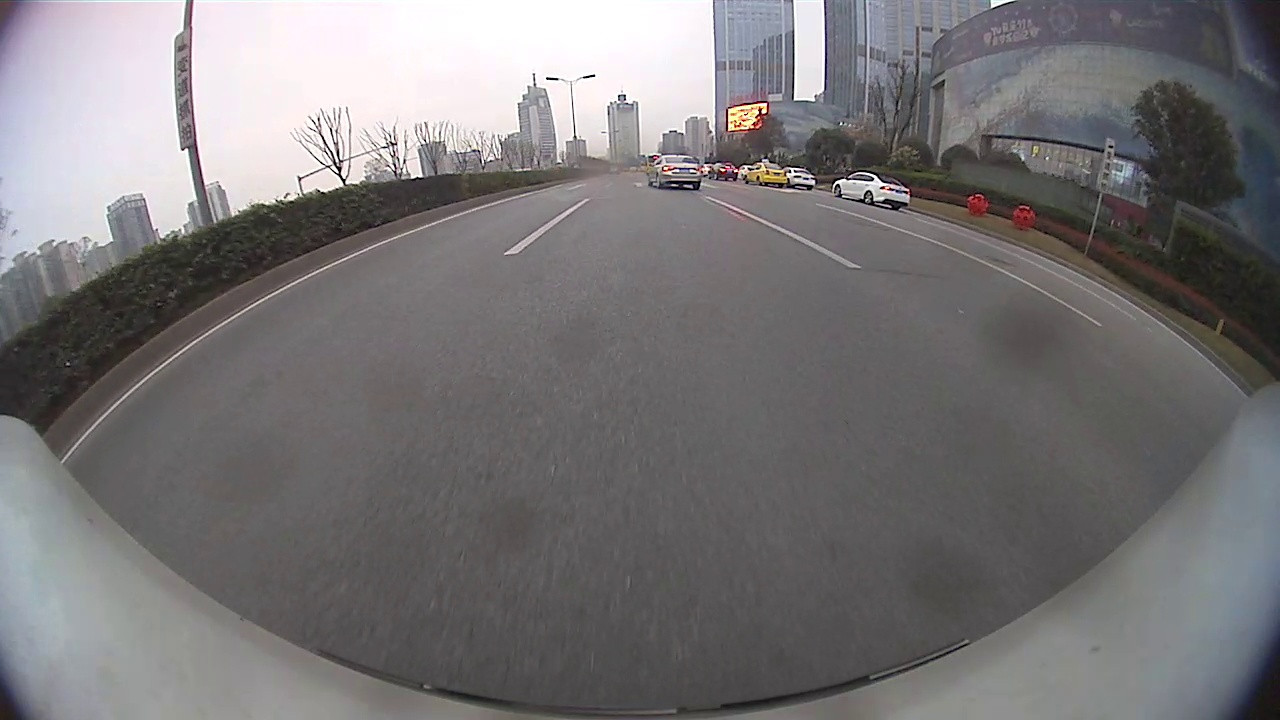car: (830, 167, 913, 213), (644, 151, 704, 191), (742, 155, 789, 190)
rear: (864, 190, 875, 205)
